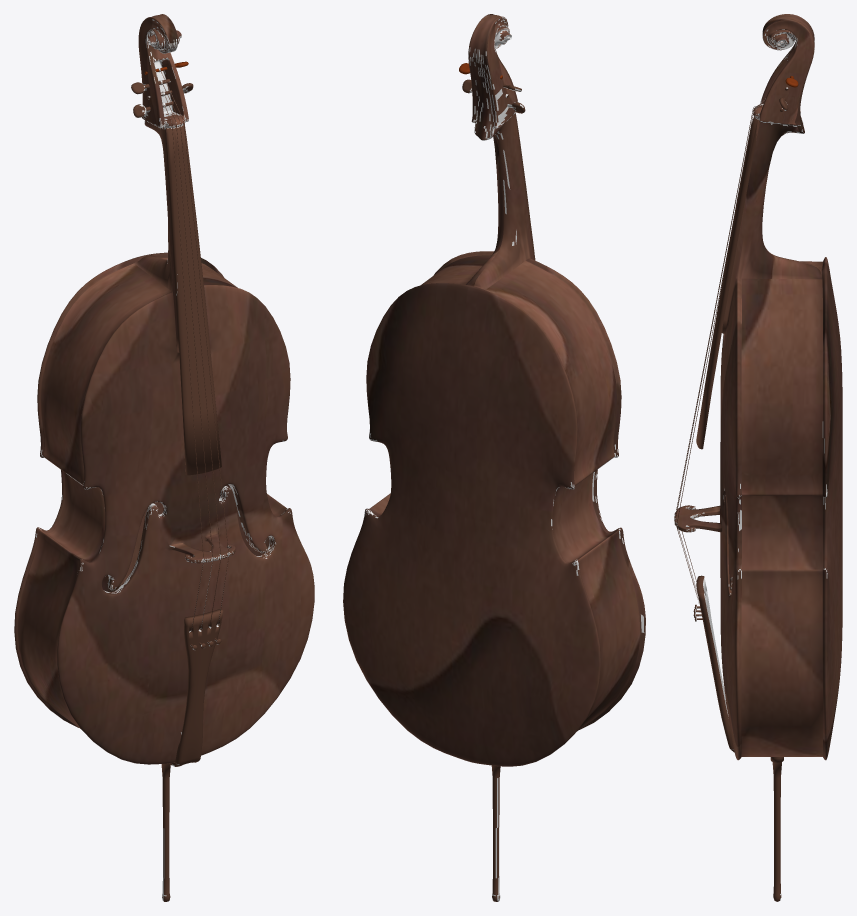
Rendered from cello3.glb.
3 renders of one model, left to right at view 1: azimuth 30°, elevation 25°; view 2: azimuth 150°, elevation 25°; view 3: azimuth 270°, elevation 25°, orthographic.
Visible parts, largest first — view 1: cello_black_cello_black; view 2: cello_black_cello_black; view 3: cello_black_cello_black.
Part boxes in pixels (x1,y1,x2,y2): cello_black_cello_black: (14,14,314,901); cello_black_cello_black: (343,14,645,901); cello_black_cello_black: (674,14,842,901).
Bounding box in the file's own units: 1.41 × 4.62 × 0.7972.
5 materials, 2 textured.
